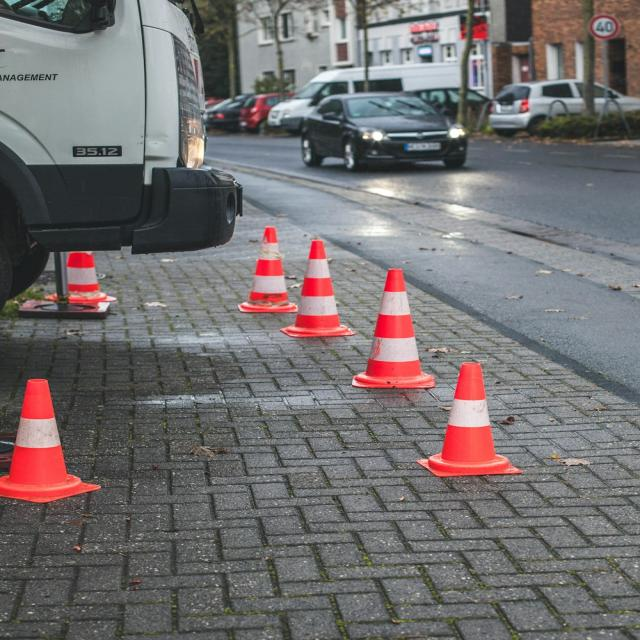Traffic Cone: (410, 336, 533, 499), (0, 358, 113, 516), (345, 252, 446, 408), (280, 231, 358, 347), (228, 216, 303, 314)
